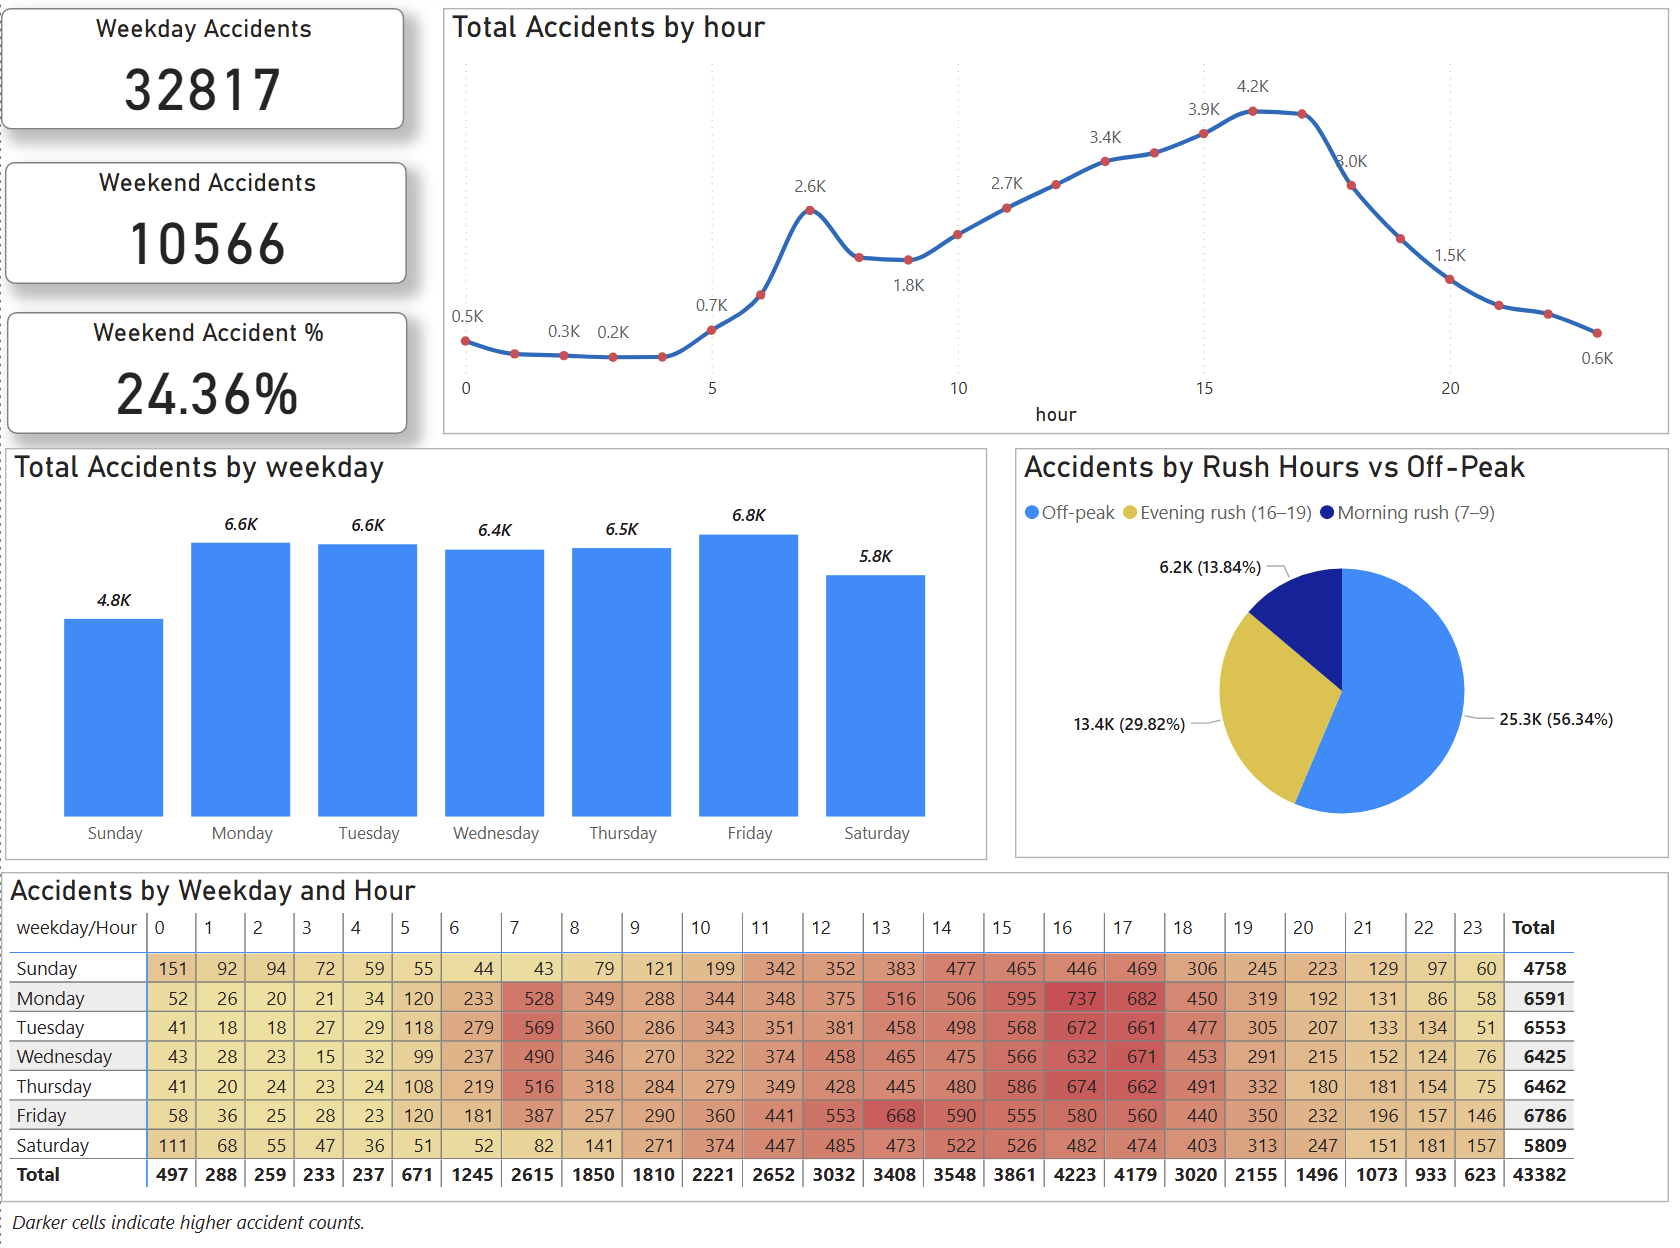

This screenshot's page, from the dashboard's own definition file:
{"tool":"powerbi","page":{"name":"Time Patterns","canvas":[1200,920],"ordinal":1},"visuals":[{"type":"card","title":"Weekday Accidents","fields":{"Values":["Measures Table.Weekday Accidents"]},"box":[0,11.4,287.3,86.6],"z":0},{"type":"card","title":"Weekend Accident %","fields":{"Values":["Measures Table.Weekend Accident %"]},"box":[4.3,228.2,285.3,87],"z":1000},{"type":"card","title":"Weekend Accidents","fields":{"Values":["Measures Table.Weekend Accidents"]},"box":[2.2,121.6,286.6,86.9],"z":2000},{"type":"clusteredColumnChart","title":"Total Accidents by weekday","fields":{"Category":["Fact_Accident.weekday_label"],"Y":["Measures Table.Total Accidents"]},"box":[2.9,325.2,700.3,293.8],"z":3000},{"type":"lineChart","fields":{"Category":["Fact_Accident.hour"],"Y":["Measures Table.Total Accidents"]},"box":[315.2,11.4,874.4,303.8],"z":4000},{"type":"pivotTable","title":"Accidents by Weekday and Hour","fields":{"Rows":["Fact_Accident.weekday_label"],"Columns":["Fact_Accident.hour"],"Values":["Measures Table.Total Accidents"]},"box":[0,627.6,1189.6,235.3],"z":5000},{"type":"textbox","box":[2.9,862.9,299.5,32.8],"z":6000},{"type":"pieChart","title":"Accidents by Rush Hours vs Off-Peak","fields":{"Category":["Fact_Accident.Time_Bucket"],"Y":["Measures Table.Total Accidents"]},"box":[723.2,325.2,466.4,292.4],"z":7000}]}

Visuals, with their boxes on the page's 1200x920 design canvas (x1, y1, x2, y2). These are canvas units, not pixel positions in the 1680x1248 screenshot, which may show the page scaled, cropped or inside an application window:
"Weekday Accidents" card: [0,11,287,98]
"Weekend Accident %" card: [4,228,290,315]
"Weekend Accidents" card: [2,122,289,208]
"Total Accidents by weekday" clusteredColumnChart: [3,325,703,619]
lineChart - Fact_Accident.hour x Measures Table.Total Accidents: [315,11,1190,315]
"Accidents by Weekday and Hour" pivotTable: [0,628,1190,863]
textbox: [3,863,302,896]
"Accidents by Rush Hours vs Off-Peak" pieChart: [723,325,1190,618]
